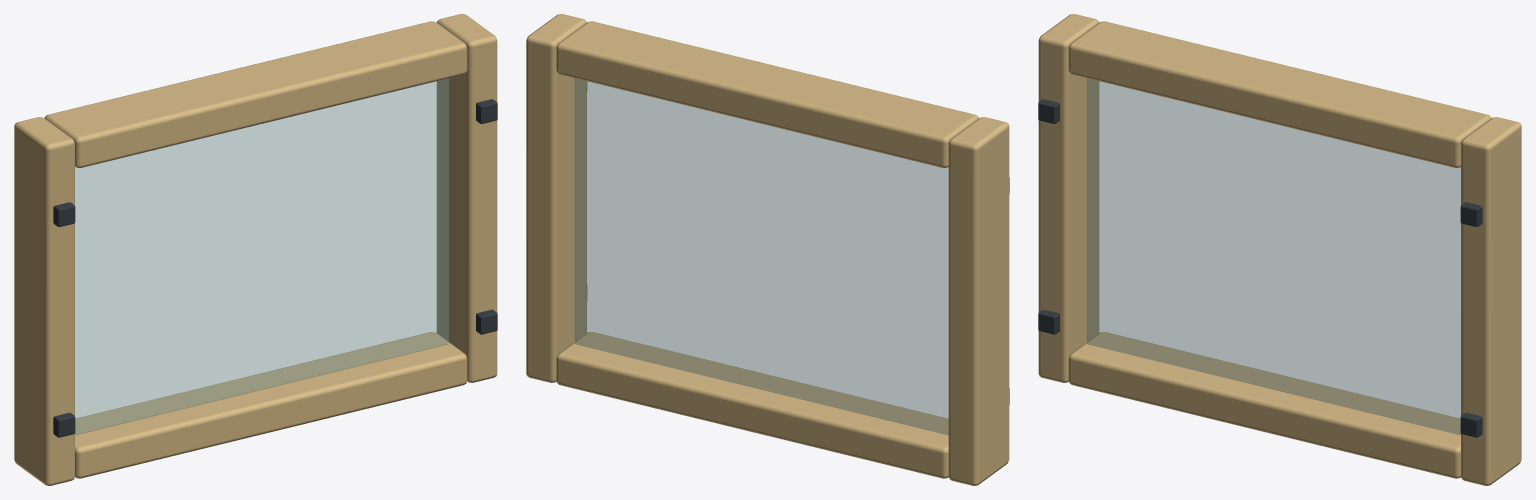
The model's file is abandoned-cinema-and-projection-booth-abandoned-cinema-5da003d4__29712.glb.
3 renders of one model, left to right at view 1: azimuth 30°, elevation 25°; view 2: azimuth 150°, elevation 25°; view 3: azimuth 330°, elevation 25°, orthographic.
Visible parts, largest first — view 1: abandoned-cinema-and-projection-booth-projection-window-fram (×3); view 2: abandoned-cinema-and-projection-booth-projection-window-fram (×2); view 3: abandoned-cinema-and-projection-booth-projection-window-fram (×3).
Part boxes in pixels (x1,y1,x2,y2): abandoned-cinema-and-projection-booth-projection-window-fram (×3): (14, 14, 497, 485); abandoned-cinema-and-projection-booth-projection-window-fram (×2): (526, 14, 1009, 485); abandoned-cinema-and-projection-booth-projection-window-fram (×3): (1038, 14, 1521, 485).
Size of the model in its own units: 0.9 by 0.65 by 0.138.
